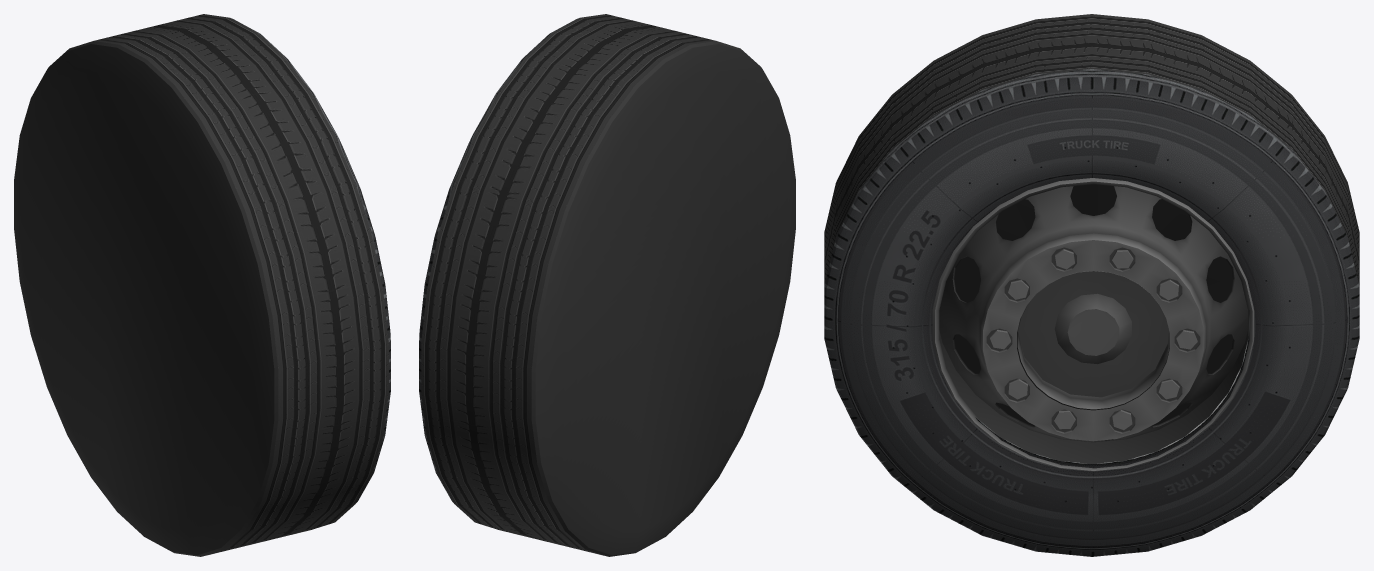
The model's file is FL Wheel.fbx.
3 views of the same model, side by side, from view 1: azimuth 30°, elevation 25°; view 2: azimuth 150°, elevation 25°; view 3: azimuth 270°, elevation 25° (orthographic).
Visible parts, largest first — view 1: FL Tire; view 2: FL Tire; view 3: FL Tire, FL Rim.
Part boxes in pixels (<box>): FL Tire: <box>14,14,390,556</box>; FL Tire: <box>419,14,795,556</box>; FL Tire: <box>824,14,1359,556</box>; FL Rim: <box>932,178,1254,471</box>.
Bounding box in the file's own units: 38.56 × 105 × 106.
2 materials, 1 textured.
